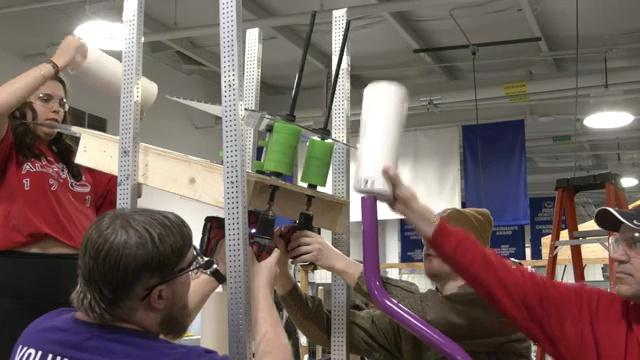CORAL: (352, 78, 409, 201), (69, 47, 158, 107)
